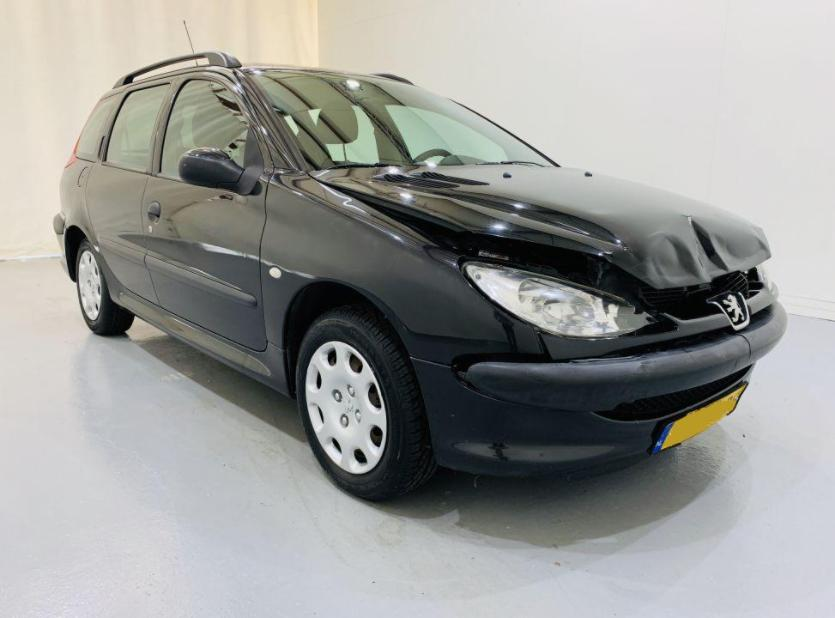Back-bumper: (54, 214, 70, 278)
Back-door: (85, 77, 176, 308)
Back-wheel: (75, 241, 133, 336)
Back-window: (106, 84, 169, 169), (76, 93, 120, 161)
Fender: (260, 168, 552, 367)
Front-bumper: (407, 276, 791, 476)
Front-door: (142, 72, 273, 354)
Front-wheel: (295, 309, 438, 501)
Front-window: (158, 78, 266, 184)
Grille: (596, 366, 747, 420)
Headlight: (463, 259, 663, 336)
Hood: (300, 164, 770, 287)
License-plate: (649, 387, 748, 461)
Mirror: (180, 148, 261, 196)
Quarter-panel: (58, 159, 120, 283)
Rocker-panel: (104, 276, 290, 398)
Roof: (106, 62, 387, 91)
Tail-light: (65, 139, 79, 167)
Windshield: (242, 70, 559, 172)
